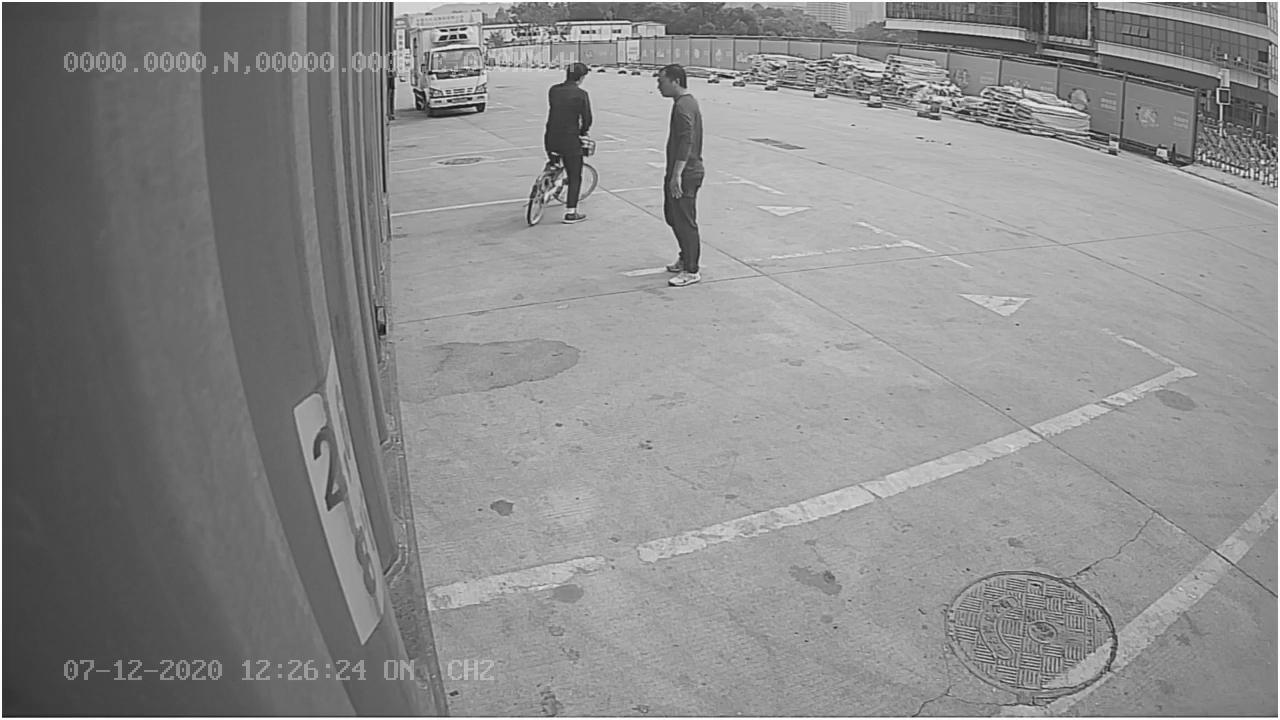person: (648, 62, 714, 288)
